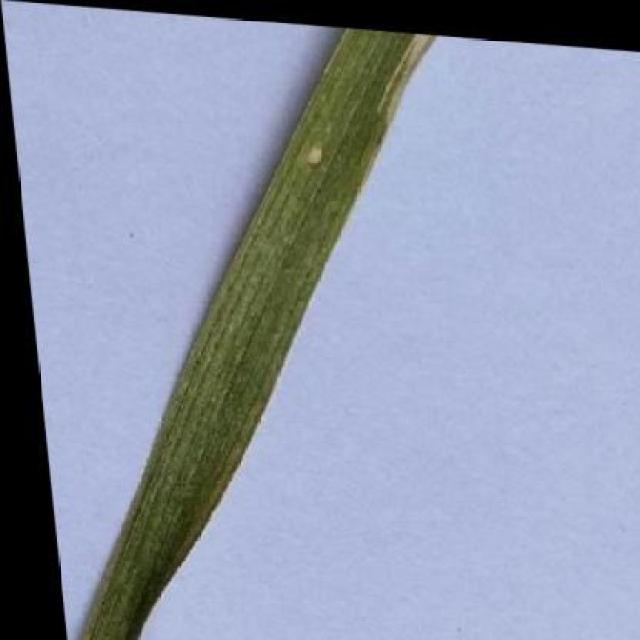Bacterial_Leaf_Blight: (298, 135, 340, 177)
